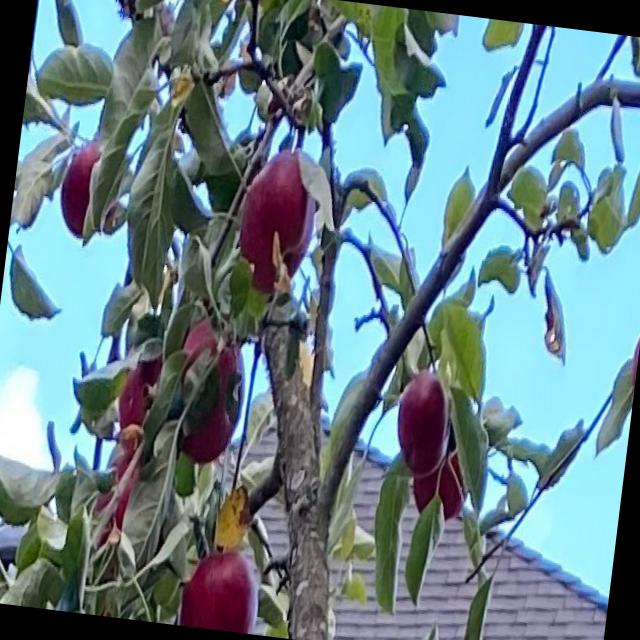Apples: (234, 147, 321, 298), (169, 322, 250, 466), (178, 546, 264, 632), (56, 144, 122, 240), (392, 376, 456, 474), (409, 440, 472, 520), (88, 447, 140, 539), (116, 352, 162, 432), (628, 321, 639, 408)
